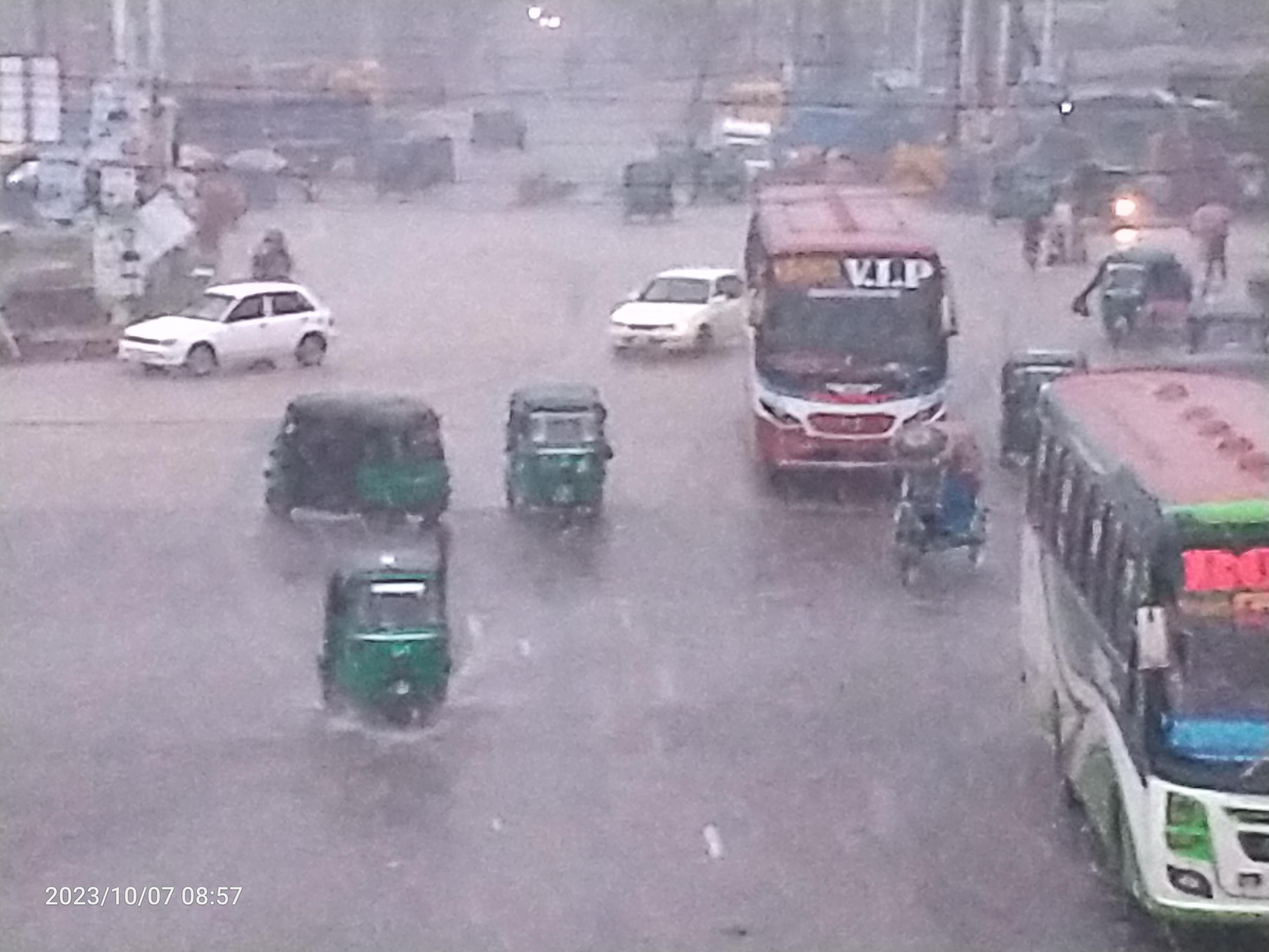Bus: (1006, 353, 1269, 944), (716, 160, 993, 515)
Car: (83, 266, 352, 393), (855, 406, 1006, 603), (588, 252, 760, 373)
